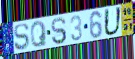3: (70, 14, 83, 42)
6: (89, 9, 103, 40)
Q: (30, 20, 48, 49)
S: (51, 16, 68, 45), (13, 23, 30, 52)
U: (103, 6, 123, 37)
